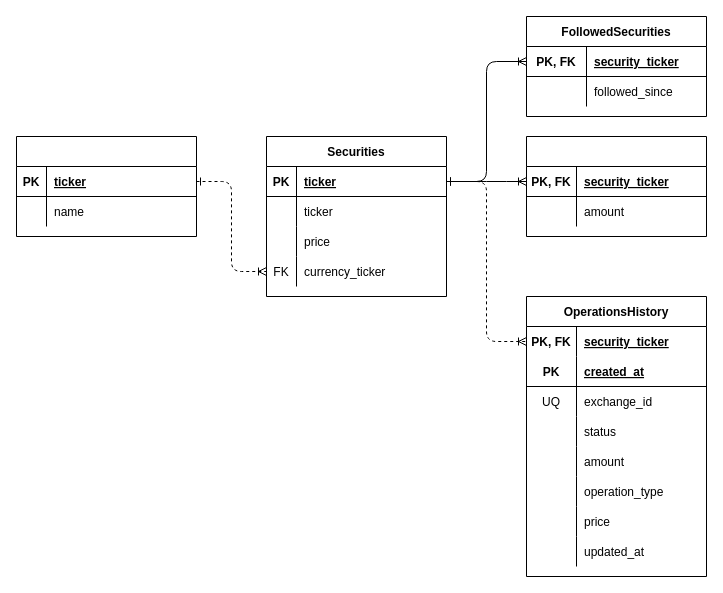
This 723x593 diagram has some shape labels left out. Here are the shapes that lost their labels. From the top down, the box of each, then its label:
(16, 136, 196, 236): Currencies
(526, 136, 706, 236): Portfolio
